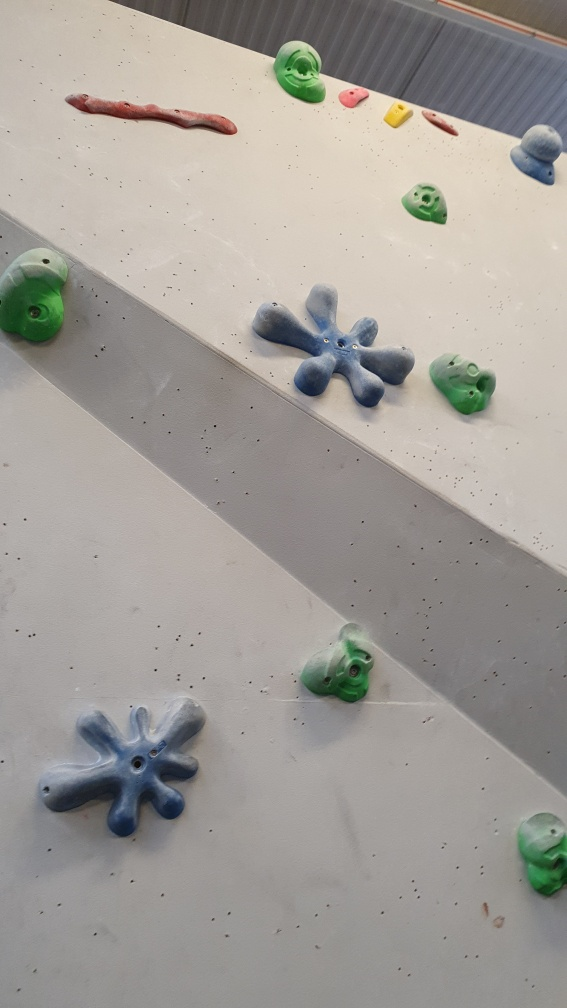Crimp: (422, 107, 462, 139), (340, 85, 373, 112)
Jug: (1, 243, 71, 350), (295, 619, 377, 709), (428, 350, 503, 419), (270, 34, 336, 111), (516, 804, 567, 900), (397, 179, 454, 229)
Octopus Pinch: (37, 693, 210, 832), (253, 282, 415, 410)
Pinch: (63, 88, 240, 138), (383, 97, 414, 130)
Sloper: (505, 122, 565, 189)
